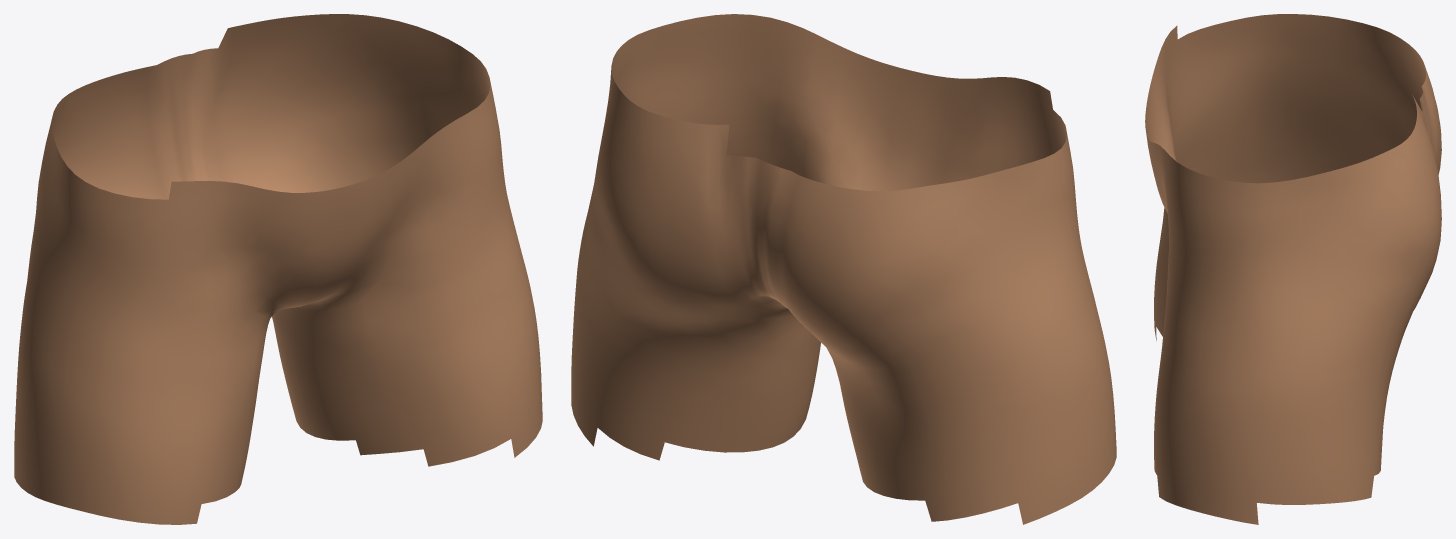
The model's file is playerboxers.fbx.
3 views of the same model, side by side, from view 1: azimuth 30°, elevation 25°; view 2: azimuth 150°, elevation 25°; view 3: azimuth 270°, elevation 25° (orthographic). The views are drawn at different scales.
Parts seen in each view (by area): view 1: boxers; view 2: boxers; view 3: boxers.
Boxes of the visible parts, x1=… form: boxers: x1=14, y1=14, x2=542, y2=524; boxers: x1=571, y1=14, x2=1116, y2=524; boxers: x1=1145, y1=14, x2=1441, y2=524.
Size of the model in its own units: 43.1 by 24.44 by 30.63.
